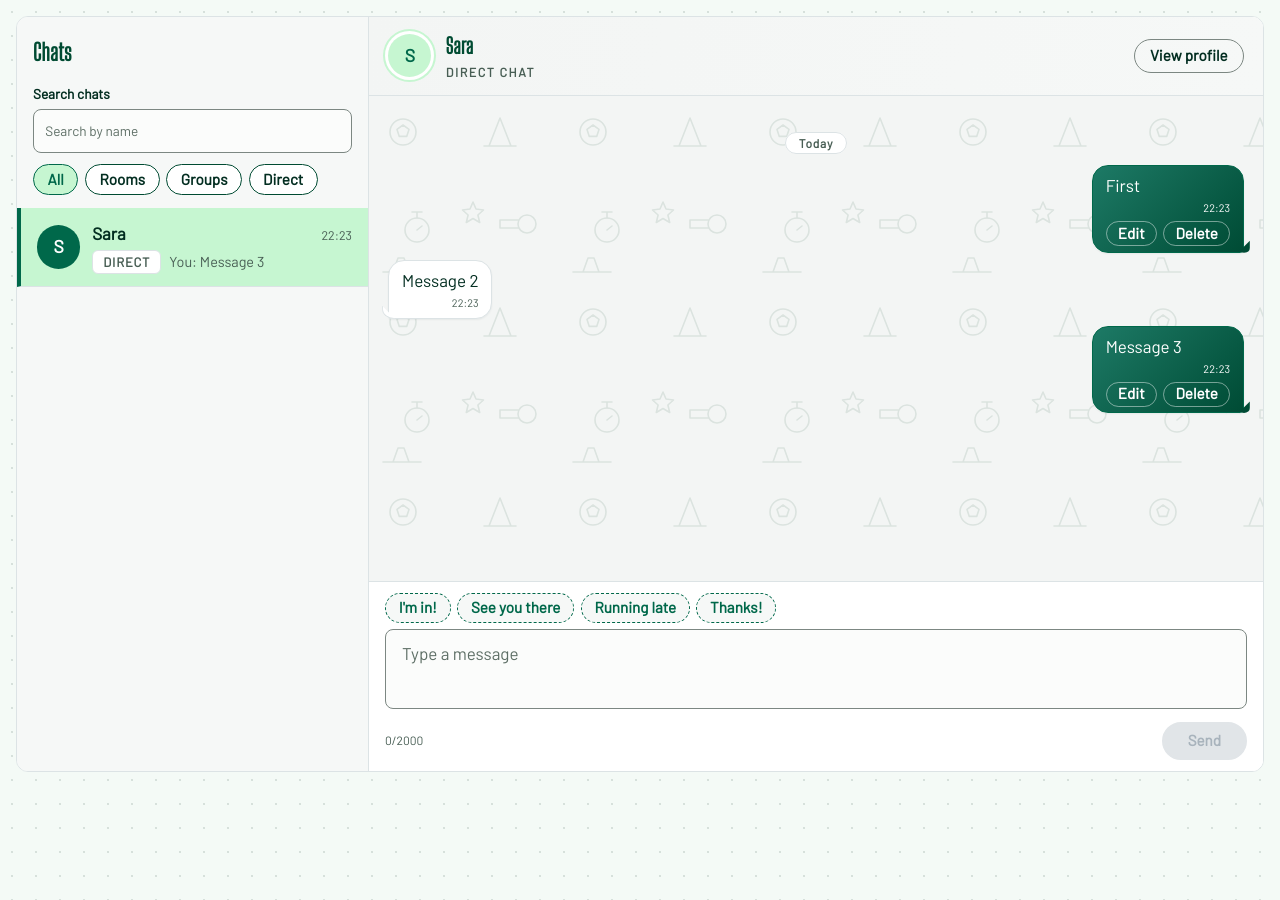
it: editing and deleting your own messages › rejects an empty edit and keeps the editor open
The image size is (1280, 900).
Expected: the text "Message 3" is shown, [1106,336,1182,356]
Click the button named "Edit message". click: (1131, 394)
box: [1106,382,1157,407]
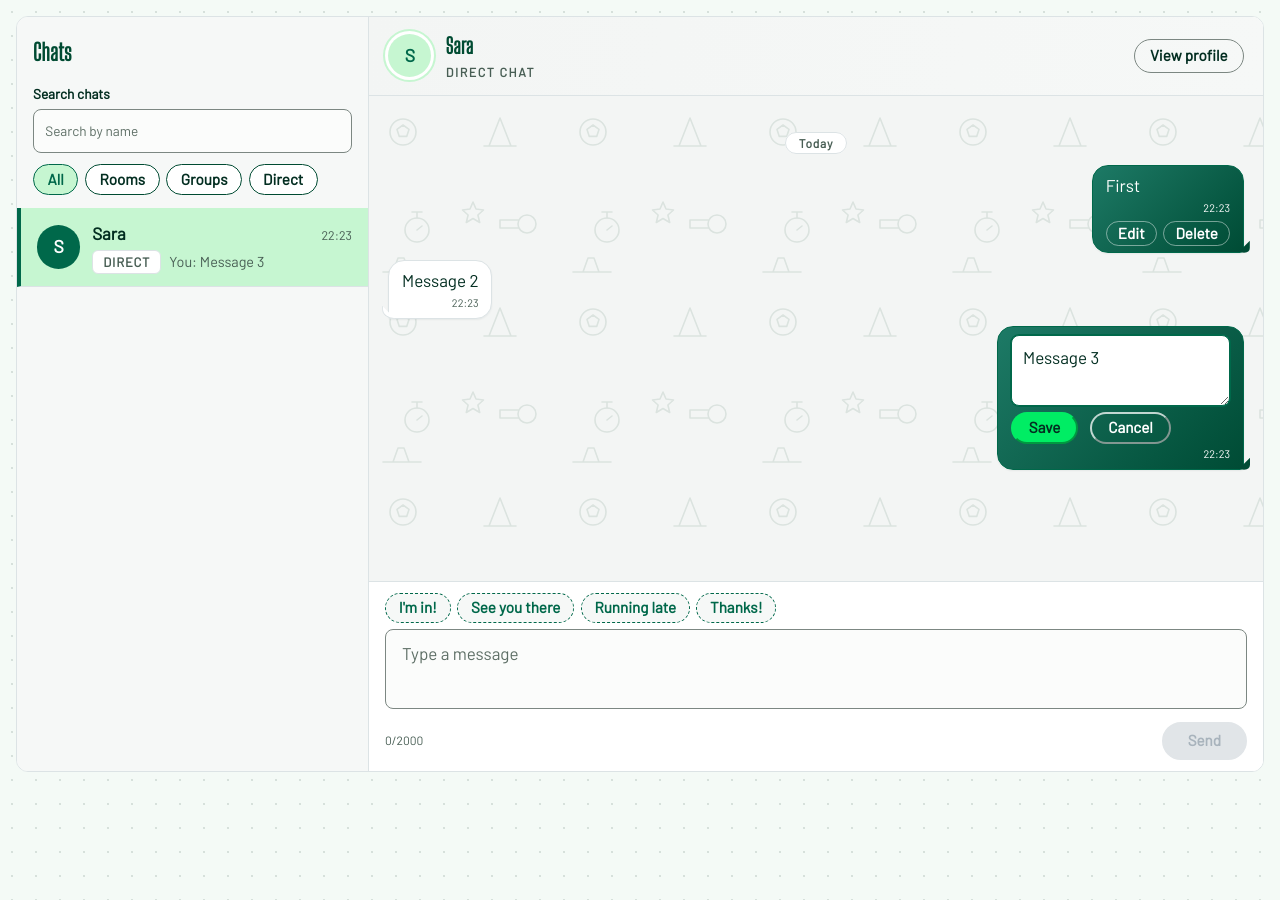
Clear the text box named "Edit your message". click: (1120, 370)
box: [1011,335,1230,406]
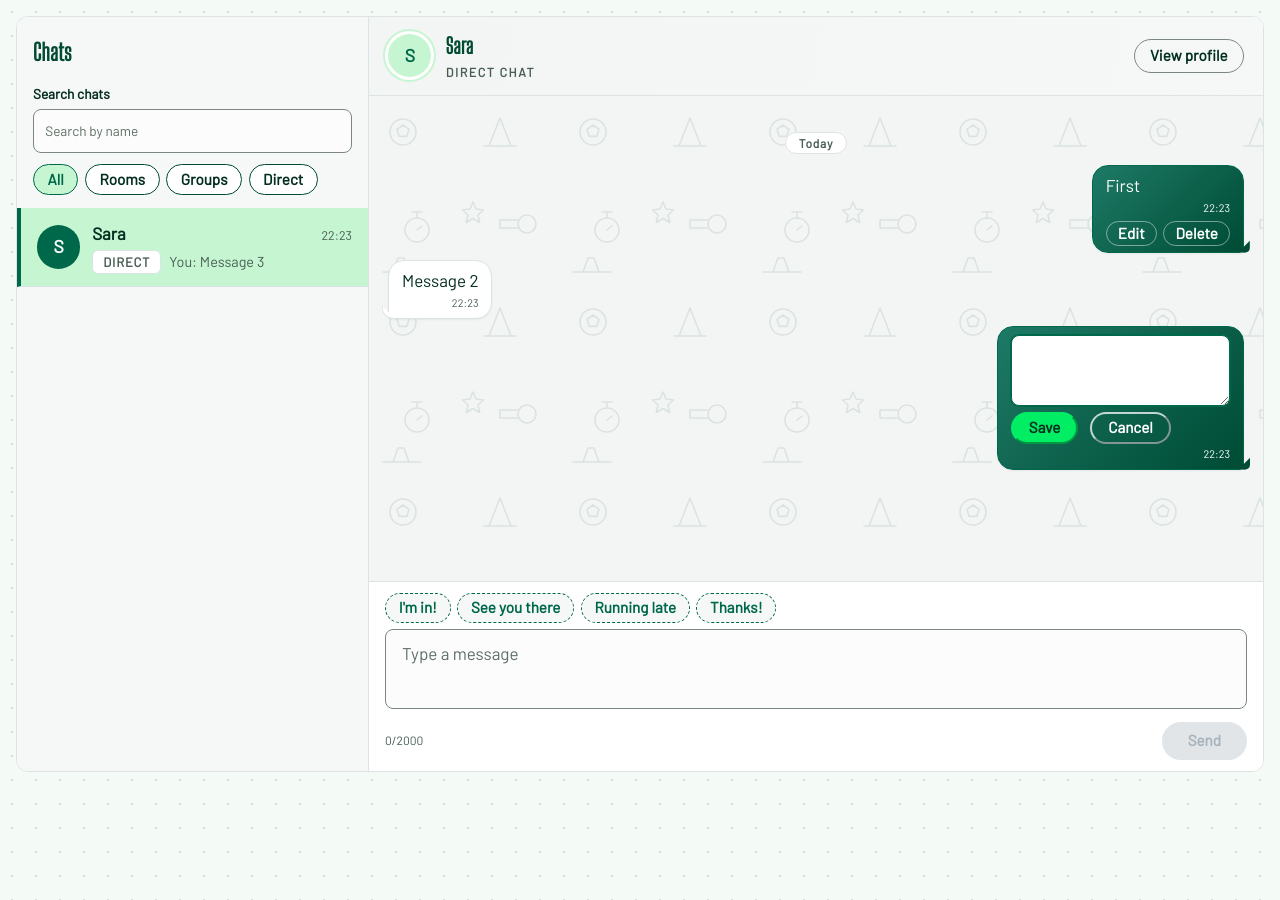
Click the button "Save". click: (1044, 428)
box: [1011,412,1078,444]
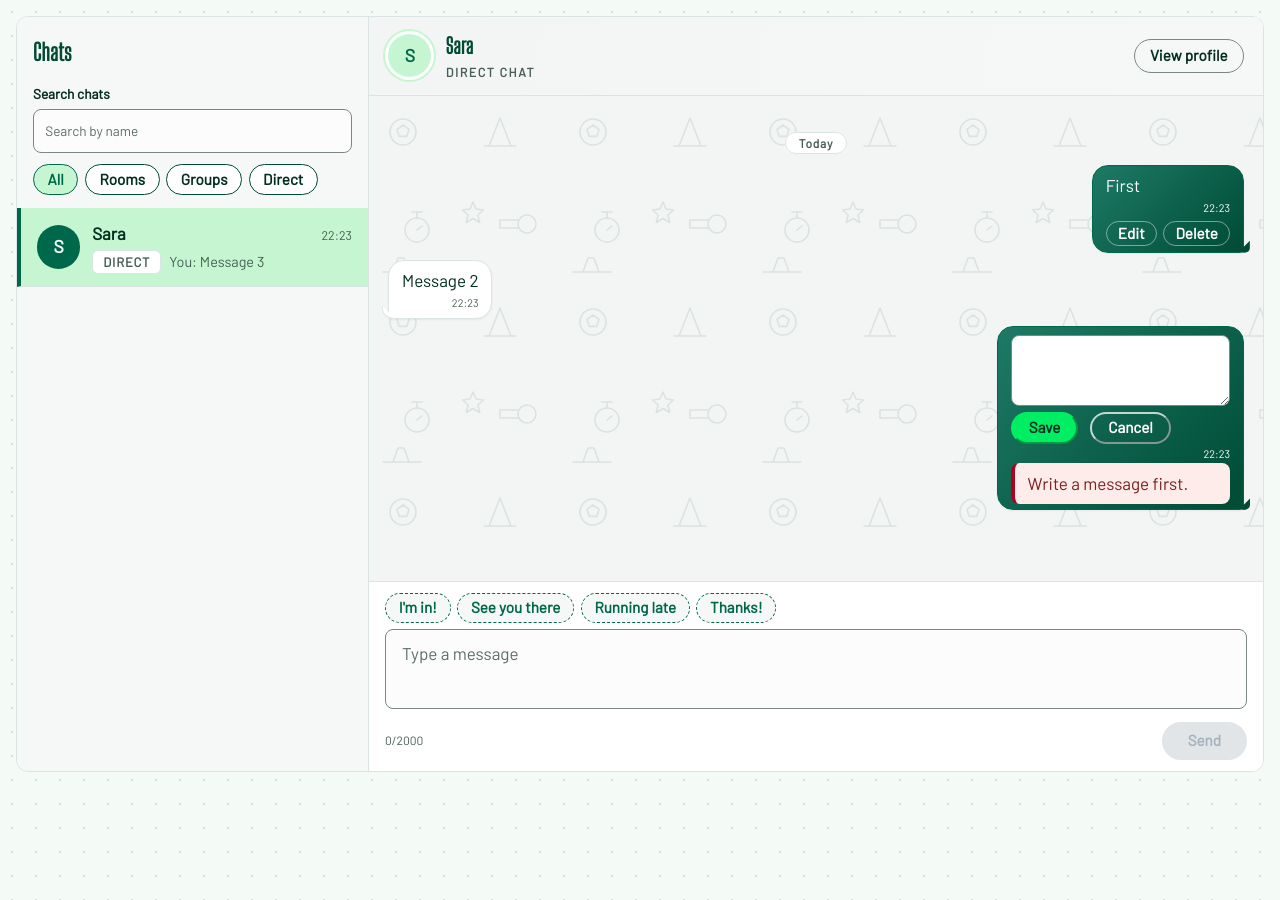
Expected: the message reads "Write a message first.", [1027,473,1188,493]
